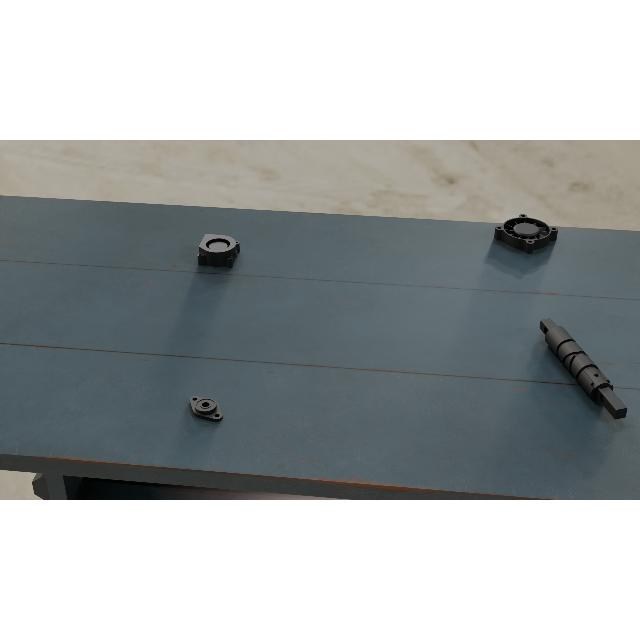Pieza1: (534, 312, 634, 426)
Pieza2: (181, 389, 231, 427)
Pieza3: (196, 233, 242, 269)
Pieza4: (492, 212, 560, 255)
